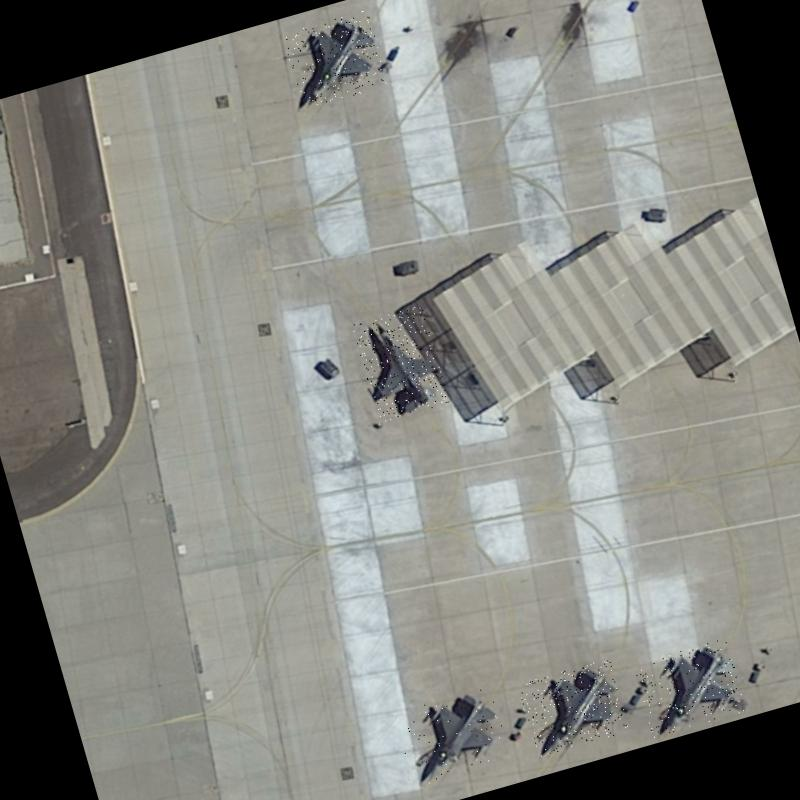A5: (390, 684, 512, 788), (632, 636, 748, 738), (351, 304, 450, 422), (517, 657, 630, 757), (282, 9, 388, 109)
